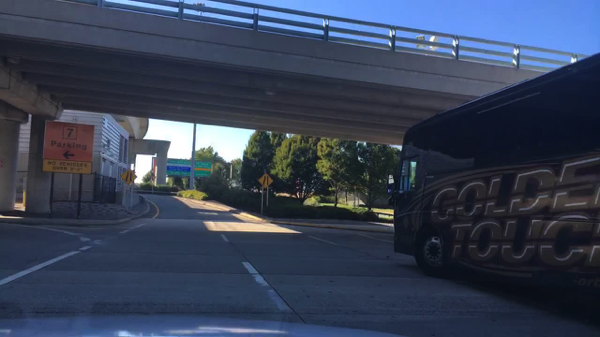bus: (386, 55, 598, 320)
traffic sign: (43, 120, 92, 172), (166, 159, 212, 177), (120, 169, 137, 185), (258, 174, 273, 187)
